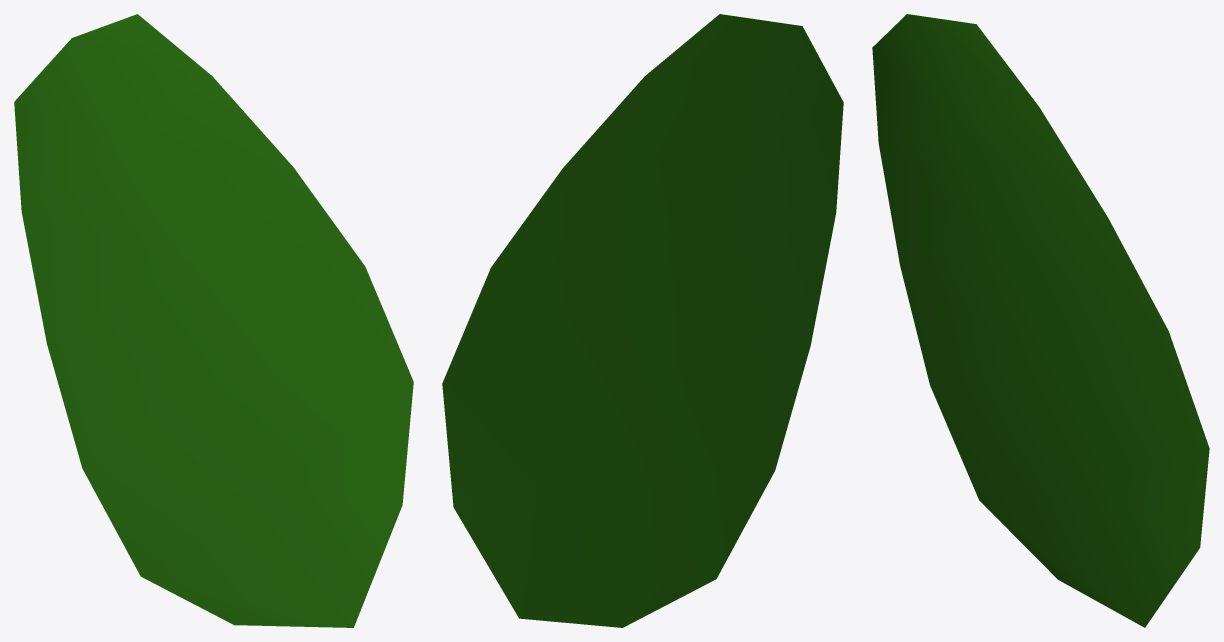
File: lovebird_feather_flight_tertiary_023.001.obj
The picture shows the model from 3 angles, left to right: view 1: azimuth 30°, elevation 25°; view 2: azimuth 150°, elevation 25°; view 3: azimuth 330°, elevation 25°; orthographic projection. The views are drawn at different scales.
Parts seen in each view (by area): view 1: feather_flight_tertiary_023.001; view 2: feather_flight_tertiary_023.001; view 3: feather_flight_tertiary_023.001.
Boxes of the visible parts, <box> form: feather_flight_tertiary_023.001: <box>14,14,413,627</box>; feather_flight_tertiary_023.001: <box>442,14,843,627</box>; feather_flight_tertiary_023.001: <box>872,14,1209,627</box>.
Bounding box in the file's own units: 0.00446 × 0.00702 × 0.00016.
